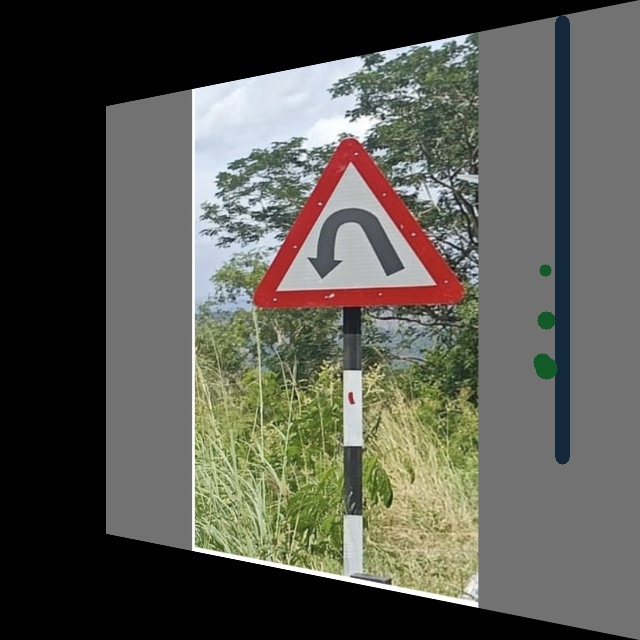Left_Hair_Pin_Bend: (257, 118, 461, 312)
